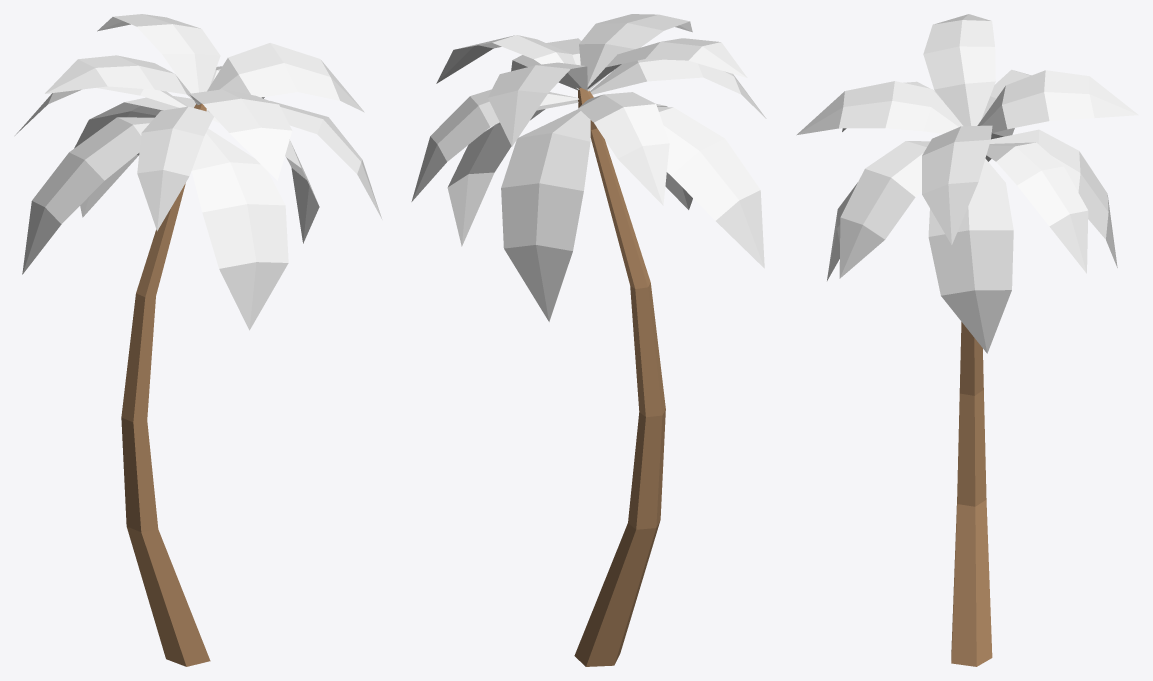
File: Palm_Tree_OneSided_l_Snow_03_LOD.fbx
The picture shows the model from 3 angles, left to right: view 1: azimuth 30°, elevation 25°; view 2: azimuth 150°, elevation 25°; view 3: azimuth 270°, elevation 25°; orthographic projection. The views are drawn at different scales.
Visible parts, largest first — view 1: Palm_Tree_OneSided_l_Snow_03_LOD0; view 2: Palm_Tree_OneSided_l_Snow_03_LOD0; view 3: Palm_Tree_OneSided_l_Snow_03_LOD0.
Boxes of the visible parts, x1,y1,x2,y2 form: Palm_Tree_OneSided_l_Snow_03_LOD0: (15, 14, 382, 666); Palm_Tree_OneSided_l_Snow_03_LOD0: (411, 14, 766, 666); Palm_Tree_OneSided_l_Snow_03_LOD0: (796, 14, 1138, 666).
Size of what is drawn, in the model's own units: 442 by 784 by 412.
